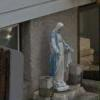Statue: (37, 14, 84, 95)
